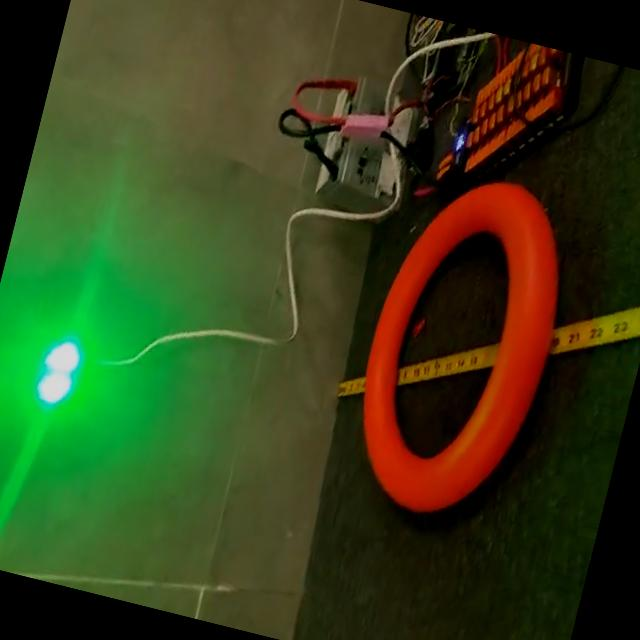note: (332, 154, 589, 536)
